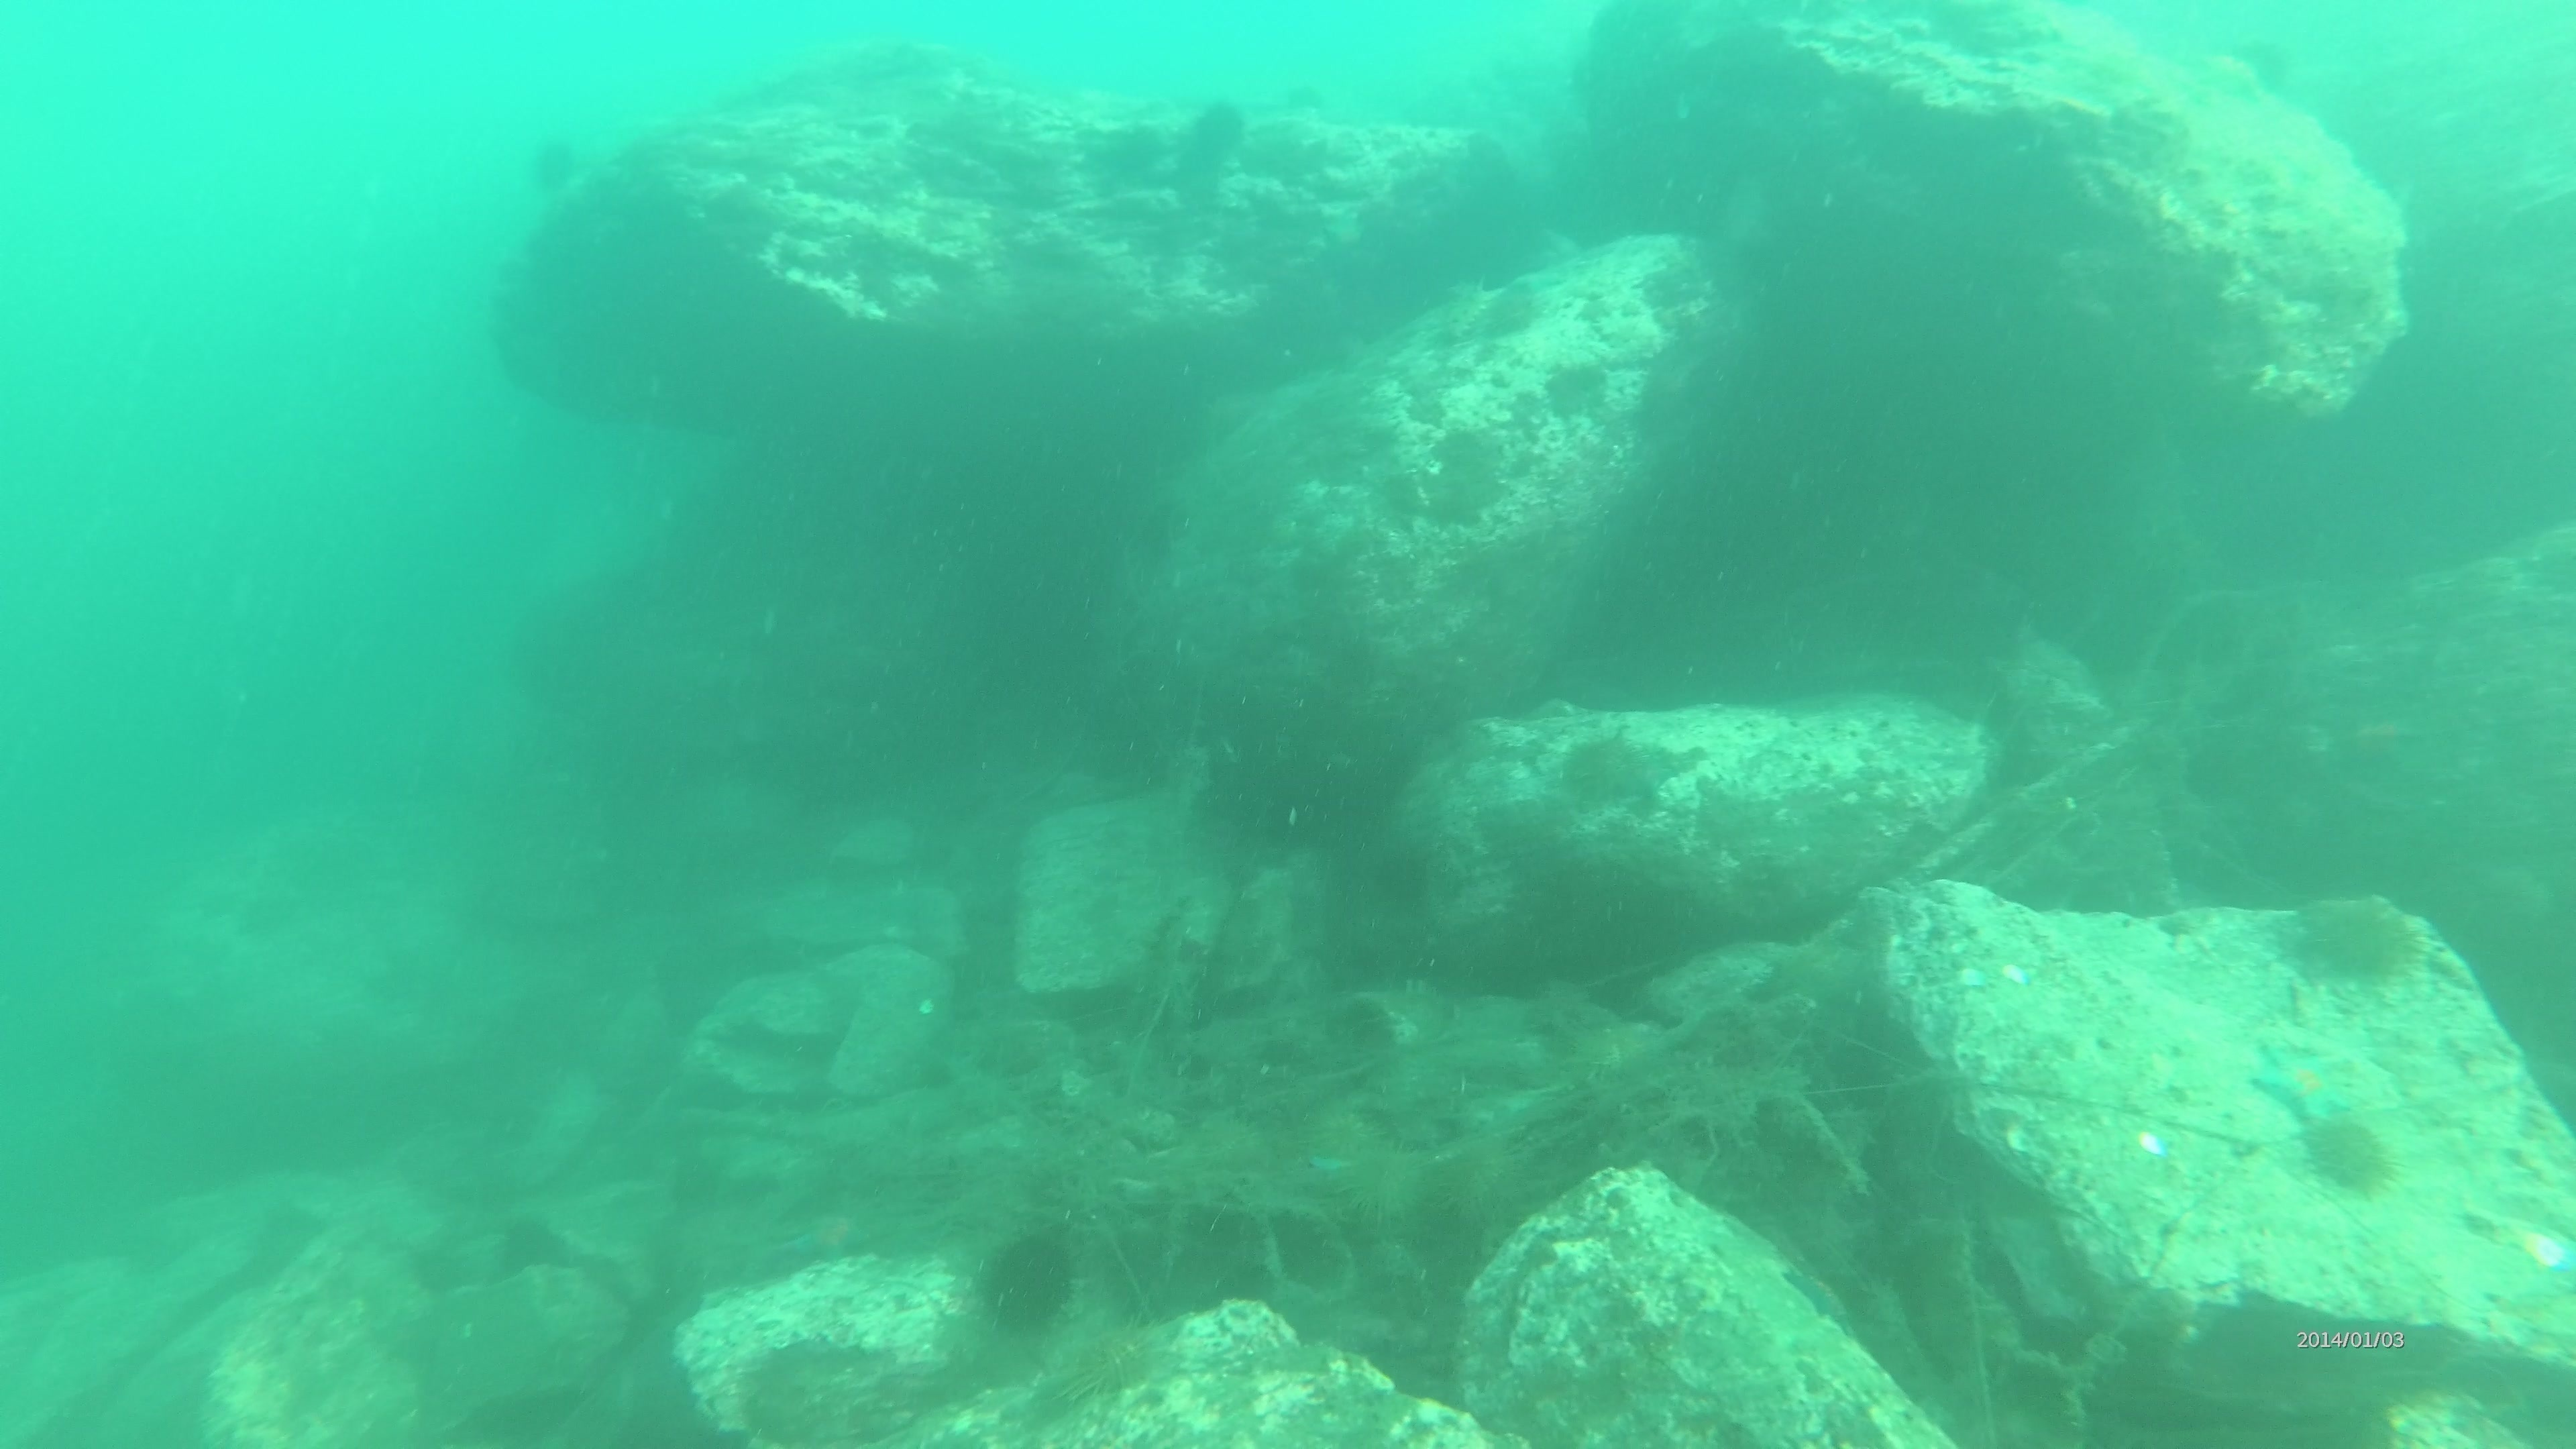echinus: (1031, 1306, 1178, 1417), (2279, 885, 2427, 993), (966, 1221, 1085, 1341), (1548, 724, 1674, 821), (2295, 1108, 2401, 1203), (1171, 94, 1253, 184), (522, 129, 586, 202)
starfish: (2245, 1040, 2360, 1132)
